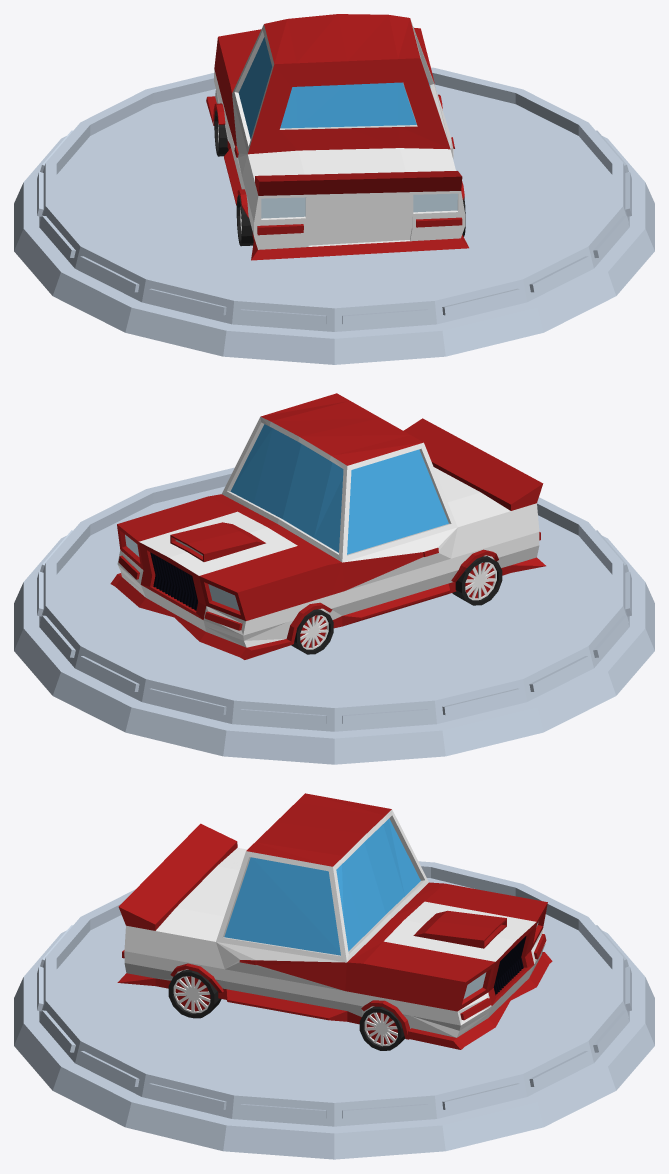
The model's file is Low-Poly-Racing-Car.obj.
The picture shows the model from 3 angles, top to bottom: view 1: azimuth 30°, elevation 25°; view 2: azimuth 150°, elevation 25°; view 3: azimuth 270°, elevation 25°; orthographic projection.
Parts seen in each view (by area): view 1: platform, body, backlight, wheel.1; view 2: platform, body, wheel.1, lattice.1, wheel1.1, headlight; view 3: platform, body, wheel.1, wheel1.1, lattice.1.
Boxes of the visible parts, x1=… form: platform: x1=14, y1=67, x2=654, y2=364; body: x1=206, y1=14, x2=468, y2=260; backlight: x1=261, y1=193, x2=457, y2=218; wheel.1: x1=236, y1=195, x2=465, y2=246; platform: x1=14, y1=467, x2=654, y2=764; body: x1=110, y1=393, x2=545, y2=659; wheel.1: x1=452, y1=556, x2=502, y2=605; lattice.1: x1=150, y1=552, x2=197, y2=610; wheel1.1: x1=291, y1=609, x2=333, y2=654; headlight: x1=125, y1=534, x2=239, y2=610; platform: x1=14, y1=861, x2=654, y2=1159; body: x1=117, y1=793, x2=552, y2=1049; wheel.1: x1=168, y1=970, x2=221, y2=1018; wheel1.1: x1=359, y1=1006, x2=405, y2=1050; lattice.1: x1=493, y1=936, x2=526, y2=995.
Size of the model in its own units: 395 by 132 by 389.
